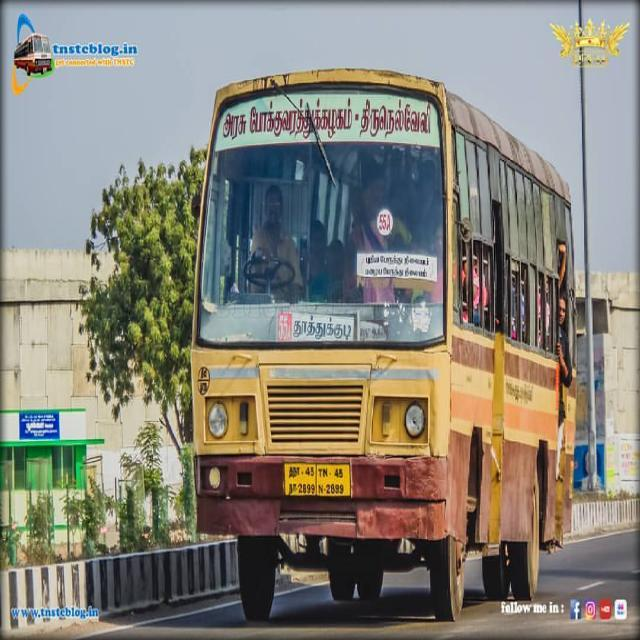Bus: (187, 63, 578, 620)
